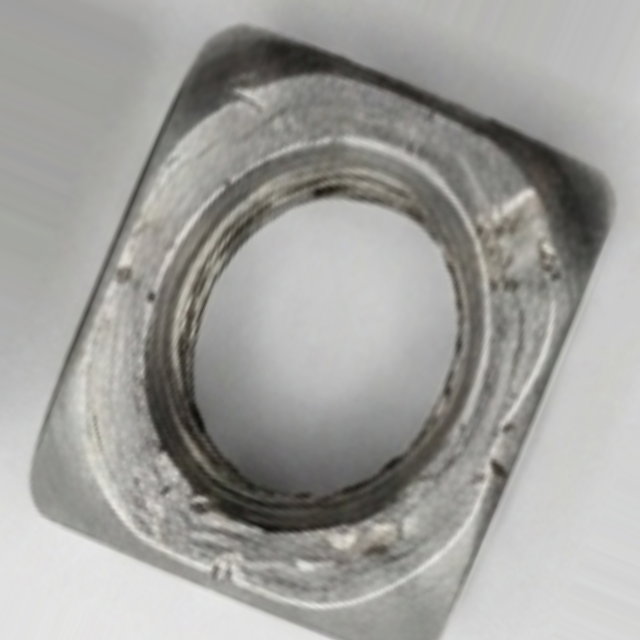defect: (467, 339, 575, 506), (148, 432, 215, 513), (332, 525, 434, 567), (473, 190, 555, 239), (479, 240, 571, 283), (185, 540, 253, 590), (229, 79, 271, 126), (103, 246, 138, 298), (136, 282, 165, 316), (215, 171, 253, 190)
